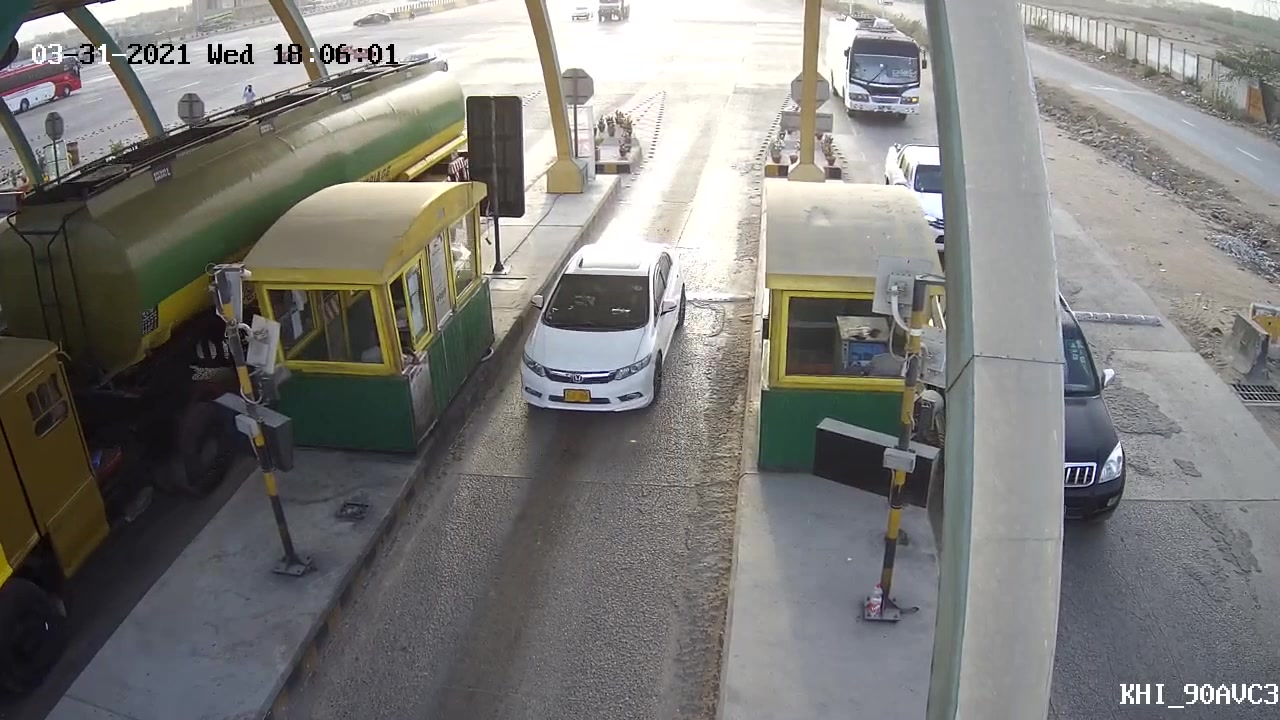F1: (506, 235, 694, 422)
